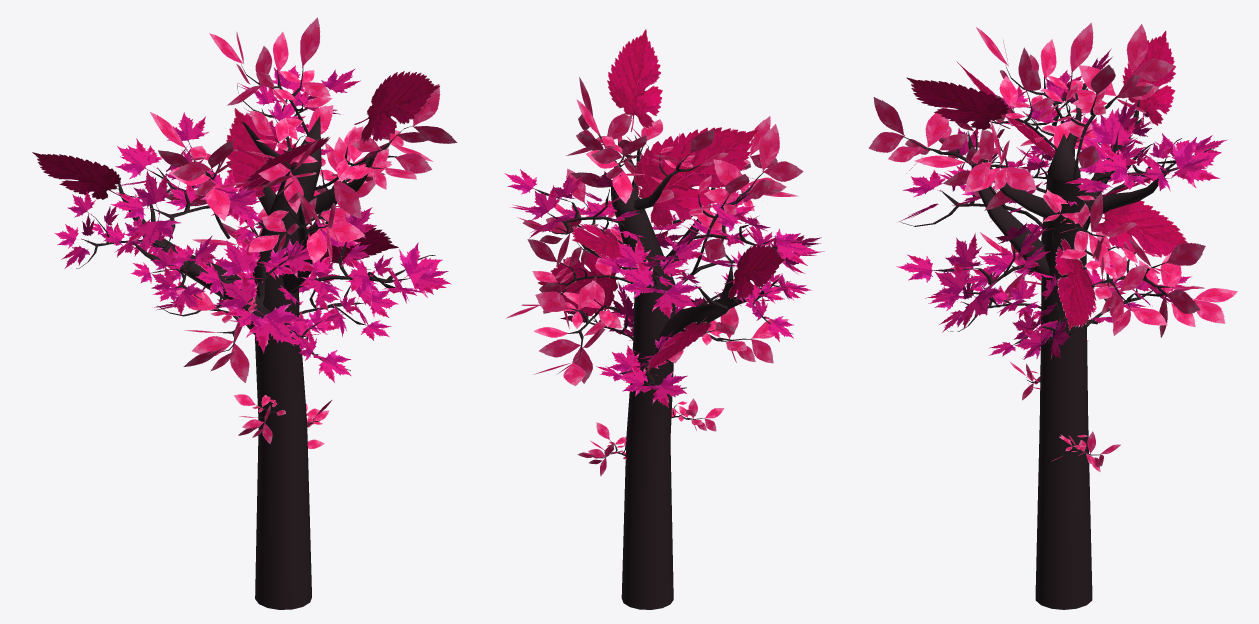
Rendered from tree4.fbx.
3 views of the same model, side by side, from view 1: azimuth 30°, elevation 25°; view 2: azimuth 150°, elevation 25°; view 3: azimuth 270°, elevation 25° (orthographic). The views are drawn at different scales.
Parts seen in each view (by area): view 1: pCylinder171; view 2: pCylinder171; view 3: pCylinder171.
Boxes of the visible parts, bbox=[...] form: pCylinder171: bbox=[32, 17, 457, 609]; pCylinder171: bbox=[504, 29, 824, 609]; pCylinder171: bbox=[868, 22, 1237, 609].
Bounding box in the file's own units: 17.06 × 27.42 × 16.35.
